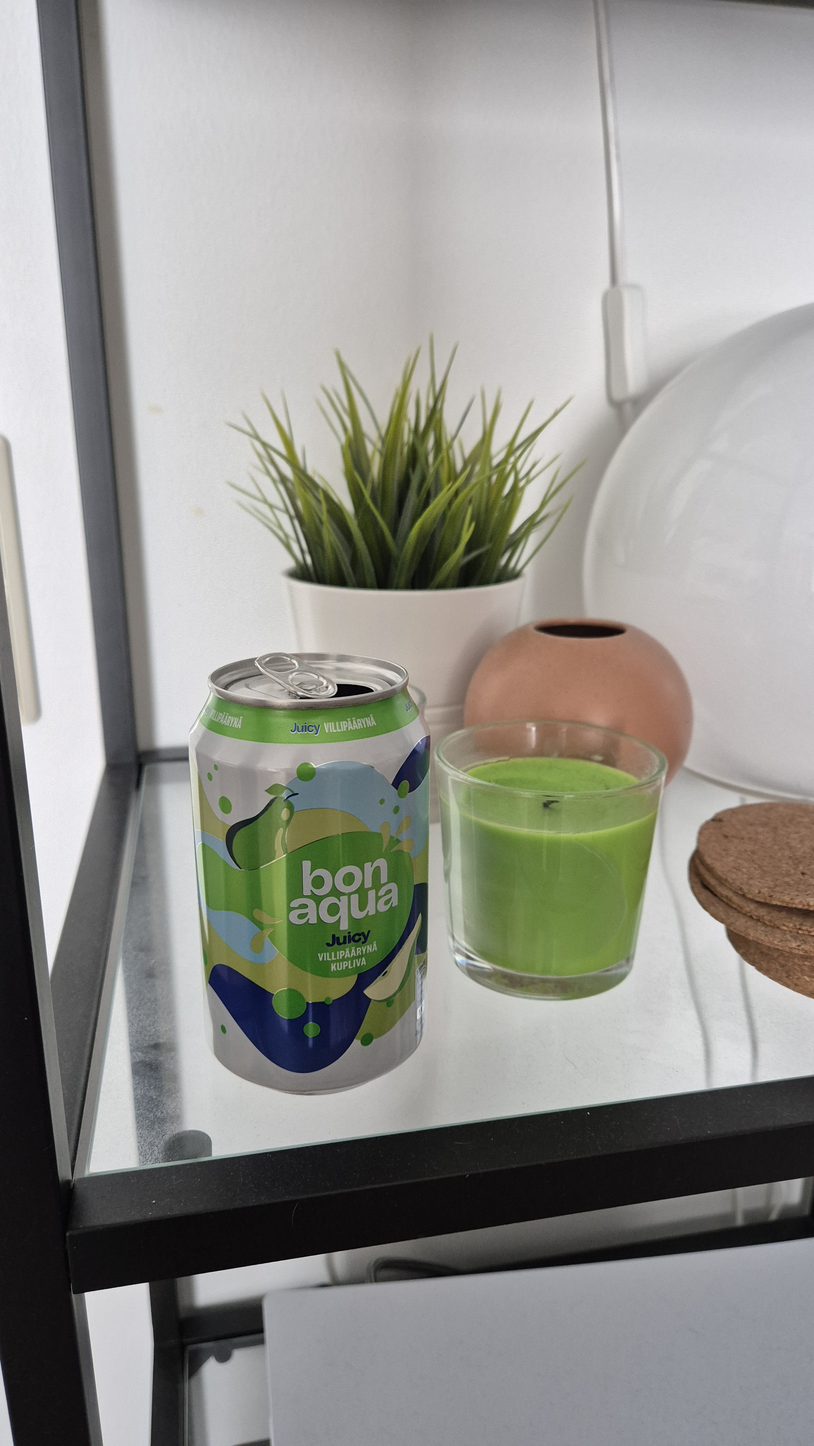Pantburk: (188, 653, 431, 1095)
